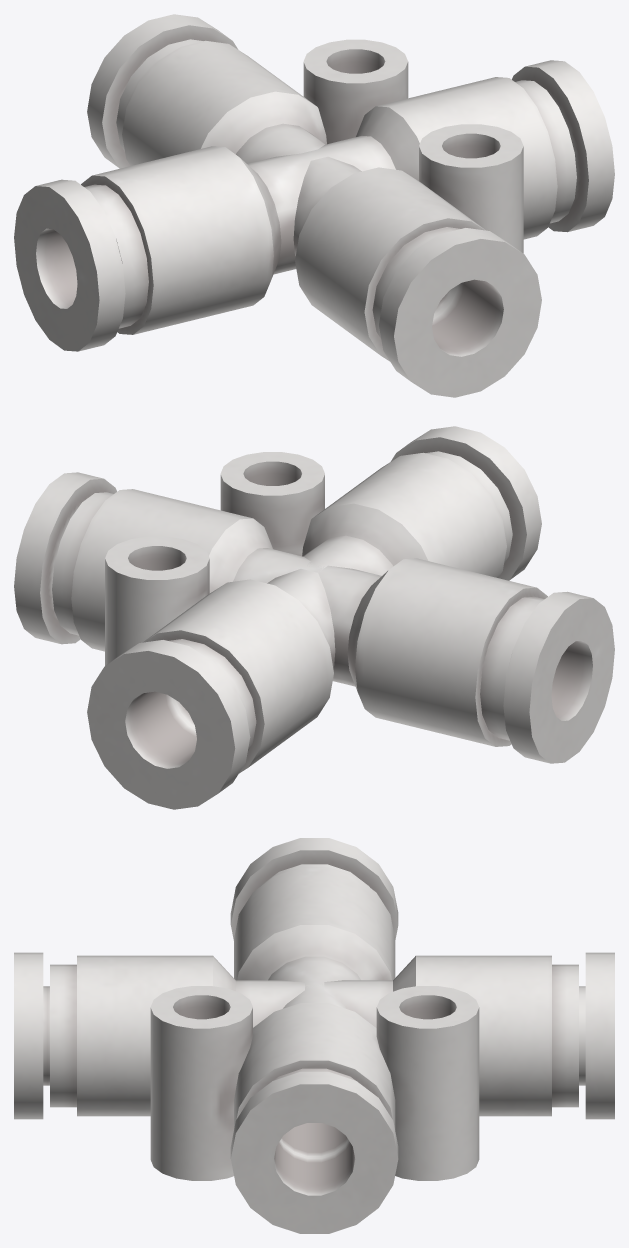
File: 四通快插气动接头.fbx
3 views of the same model, one above another, from view 1: azimuth 30°, elevation 25°; view 2: azimuth 150°, elevation 25°; view 3: azimuth 270°, elevation 25° (orthographic). The views are drawn at different scales.
Parts seen in each view (by area): view 1: STKCQDJT01; view 2: STKCQDJT01; view 3: STKCQDJT01.
Part boxes in pixels (<box>): STKCQDJT01: <box>14,14,614,397</box>; STKCQDJT01: <box>14,426,614,809</box>; STKCQDJT01: <box>14,838,614,1233</box>.
Bounding box in the file's own units: 7.45 × 2.15 × 7.68.
